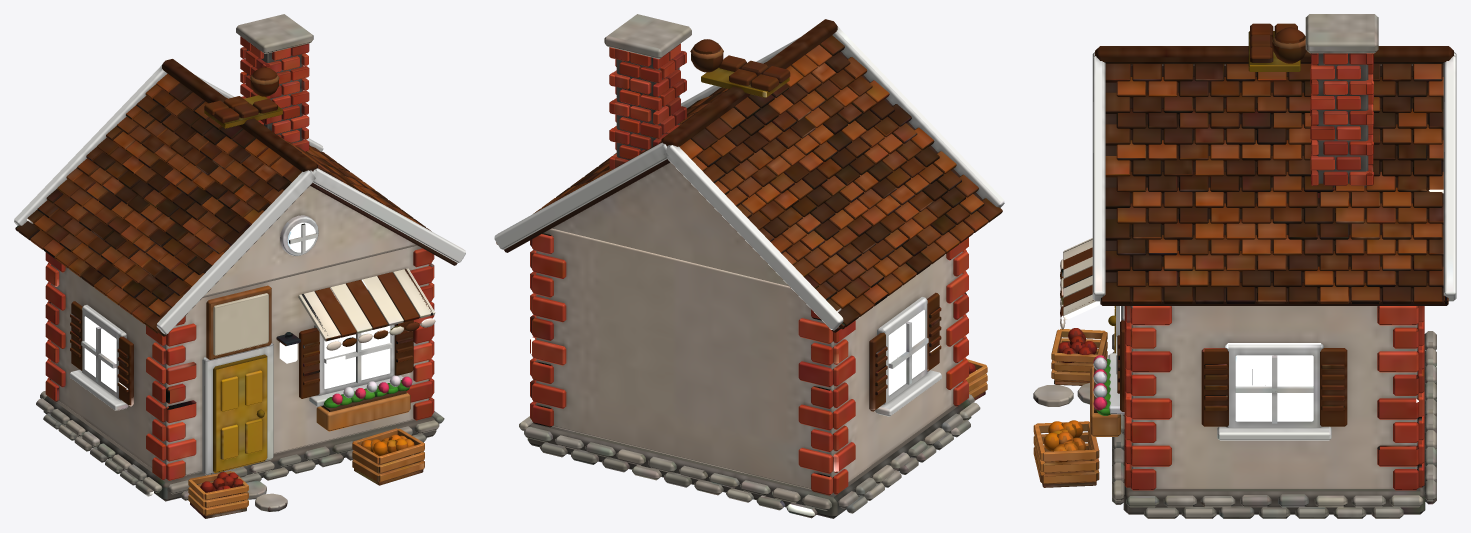
File: chocolatier.glb
The picture shows the model from 3 angles, left to right: view 1: azimuth 30°, elevation 25°; view 2: azimuth 150°, elevation 25°; view 3: azimuth 270°, elevation 25°; orthographic projection. The views are drawn at different scales.
Parts seen in each view (by area): view 1: chocolatier; view 2: chocolatier; view 3: chocolatier.
Boxes of the visible parts, box(x1,y1,x2,y2) form: chocolatier: box(14, 14, 465, 518); chocolatier: box(494, 14, 1004, 518); chocolatier: box(1033, 14, 1456, 518).
Size of the model in its own units: 1.69 by 1.89 by 1.63.
Materials: 1 (1 with a texture image).
